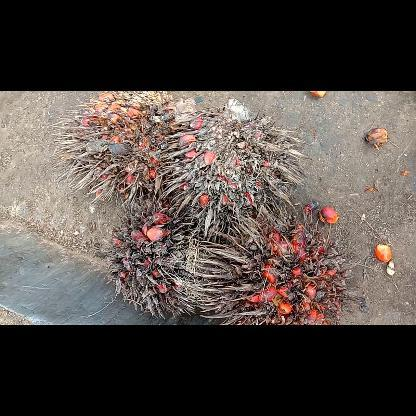Terlalu masak: (149, 95, 313, 226), (196, 198, 354, 324), (46, 91, 202, 211), (104, 198, 230, 316)
